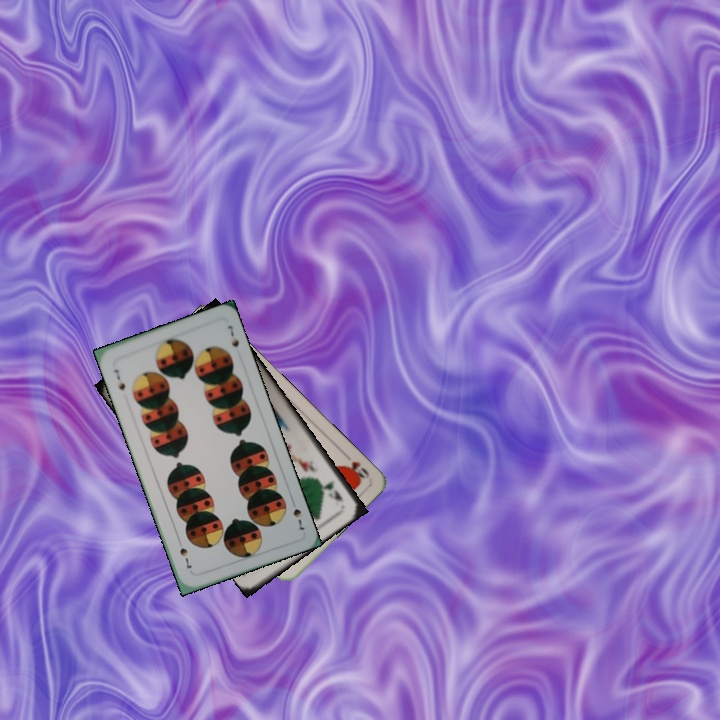GK: (320, 476, 346, 505)
HO: (341, 457, 372, 483)
S7: (289, 504, 307, 534), (110, 365, 128, 393)
